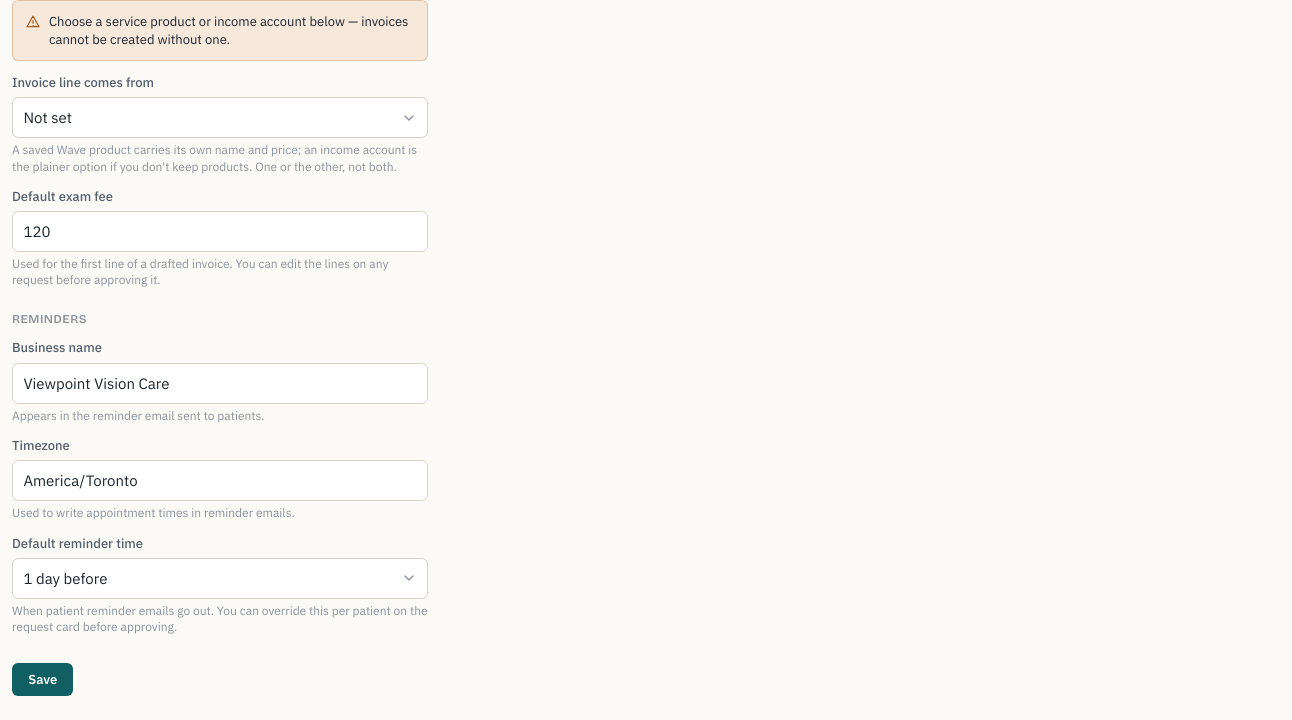
Test: ExamSettings › surfaces a rejected save
This screenshot has width=1292, height=720.
(page scrolled)
Click the button "Save" at (43, 680), box [12,663,73,696]
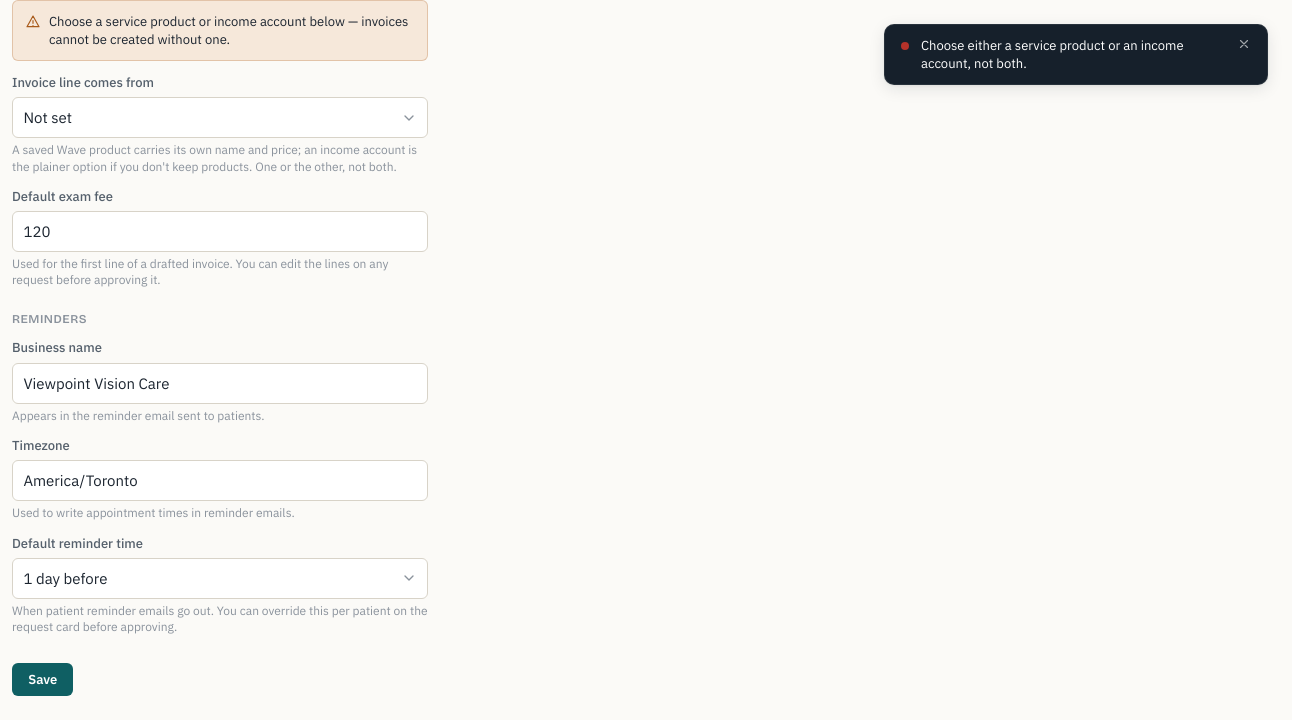
expect the text "Choose either a service product or an income account, not both." is shown: met, box [921,37,1223,72]
